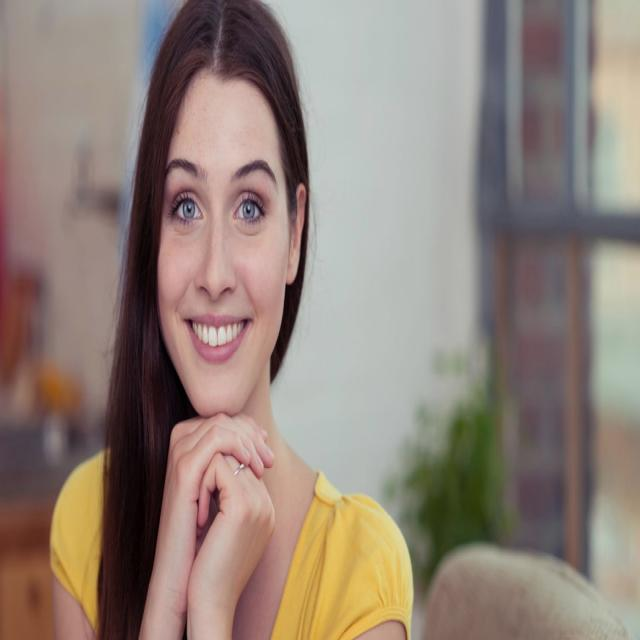adult: (47, 0, 416, 640)
